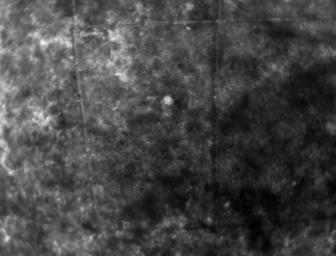landmine: (163, 95, 172, 105)
